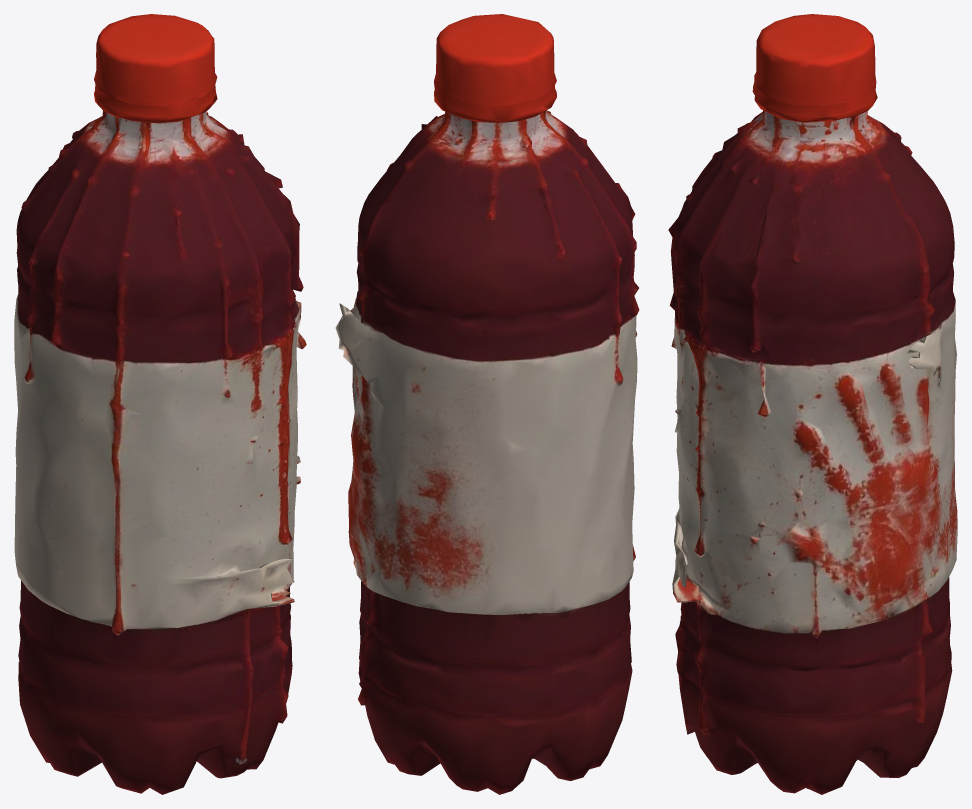
The model's file is squash.glb.
The picture shows the model from 3 angles, left to right: view 1: azimuth 30°, elevation 25°; view 2: azimuth 150°, elevation 25°; view 3: azimuth 270°, elevation 25°; orthographic projection.
Visible parts, largest first — view 1: tripo_node_6901b1f5-7f3d-486c-b81e-acf94febb78f; view 2: tripo_node_6901b1f5-7f3d-486c-b81e-acf94febb78f; view 3: tripo_node_6901b1f5-7f3d-486c-b81e-acf94febb78f.
Boxes of the visible parts, box(x1,y1,x2,y2) form: tripo_node_6901b1f5-7f3d-486c-b81e-acf94febb78f: box(14, 14, 306, 794); tripo_node_6901b1f5-7f3d-486c-b81e-acf94febb78f: box(335, 14, 639, 794); tripo_node_6901b1f5-7f3d-486c-b81e-acf94febb78f: box(668, 14, 957, 794).
Size of the model in its own units: 0.3752 by 1 by 0.3671.
Materials: 1 (1 with a texture image).
